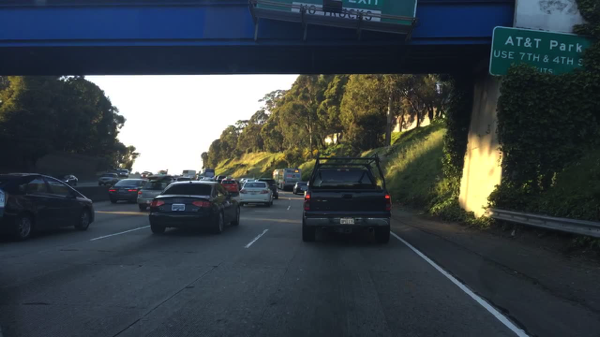bus: (272, 170, 301, 190), (199, 169, 213, 178)
car: (0, 170, 95, 240), (149, 182, 241, 235), (108, 177, 146, 204), (137, 179, 169, 209), (241, 182, 272, 208), (257, 179, 277, 199), (220, 179, 236, 195), (99, 172, 118, 185), (58, 175, 77, 186), (292, 182, 308, 194), (119, 169, 130, 176), (203, 178, 216, 182), (177, 178, 191, 181), (159, 172, 169, 176), (142, 172, 151, 175), (219, 176, 227, 178)
traffic sign: (247, 1, 418, 35), (489, 29, 596, 81)
truck: (301, 154, 391, 245), (183, 170, 196, 177)
